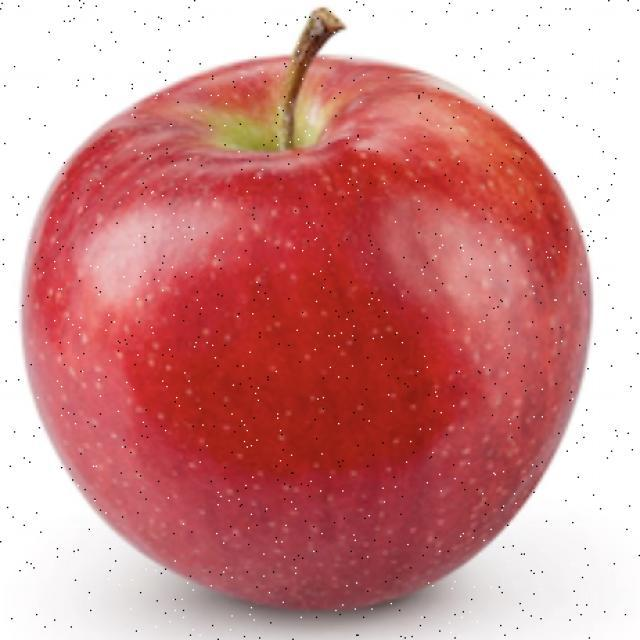Fresh Apple: (43, 50, 582, 590)
